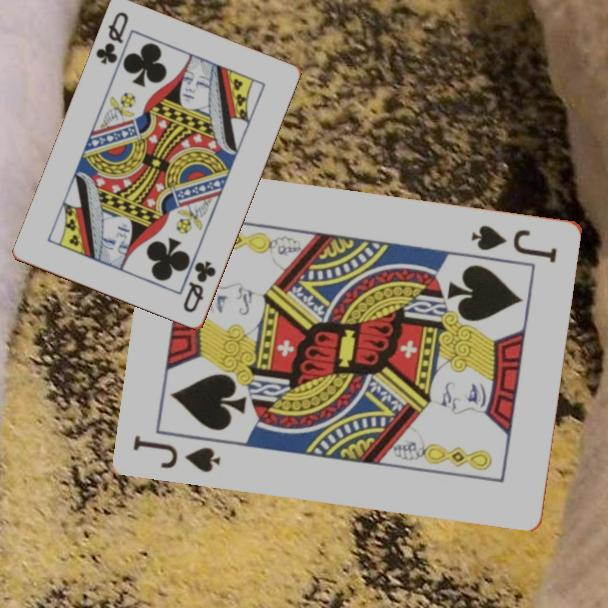c12: (92, 9, 132, 68), (180, 258, 219, 316)
s11: (130, 431, 224, 475), (468, 221, 561, 265)
